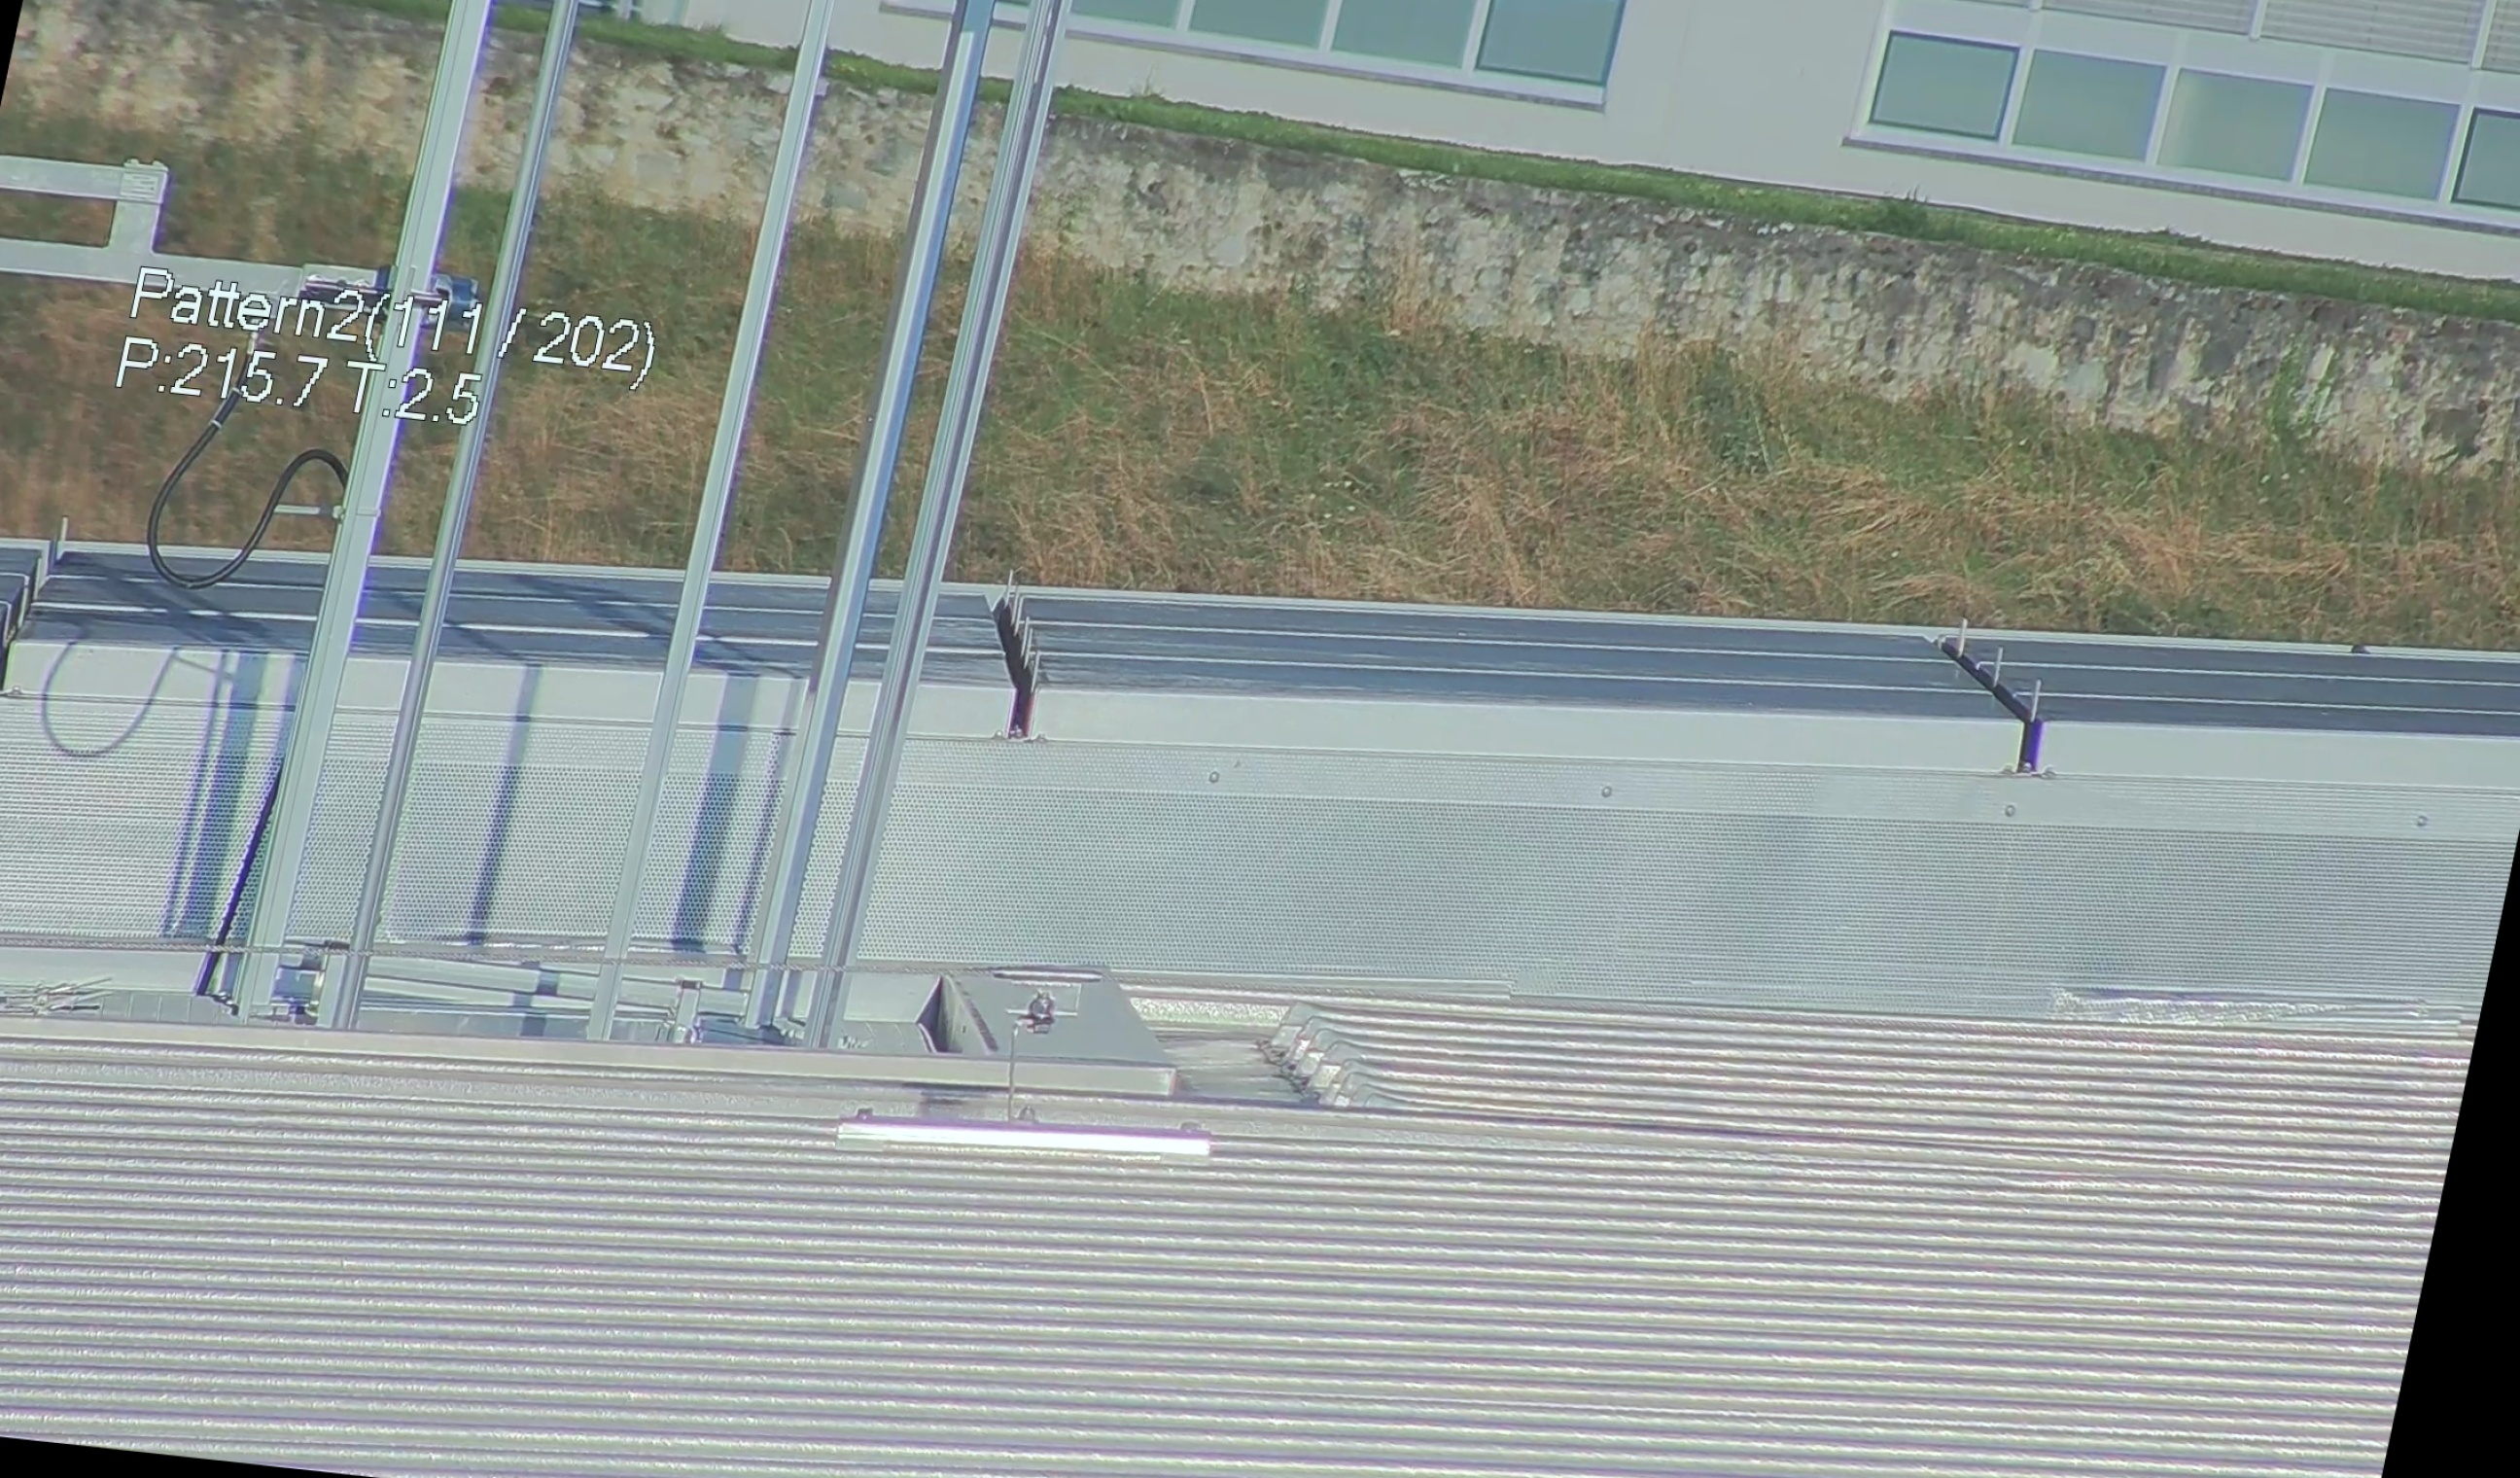Other: (936, 560, 1082, 750)
